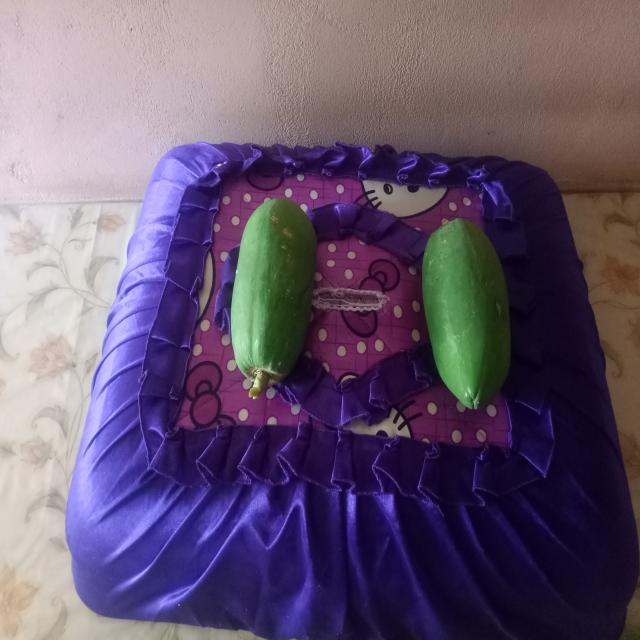Pepaya unrippen: (224, 192, 313, 409), (422, 216, 505, 410)
